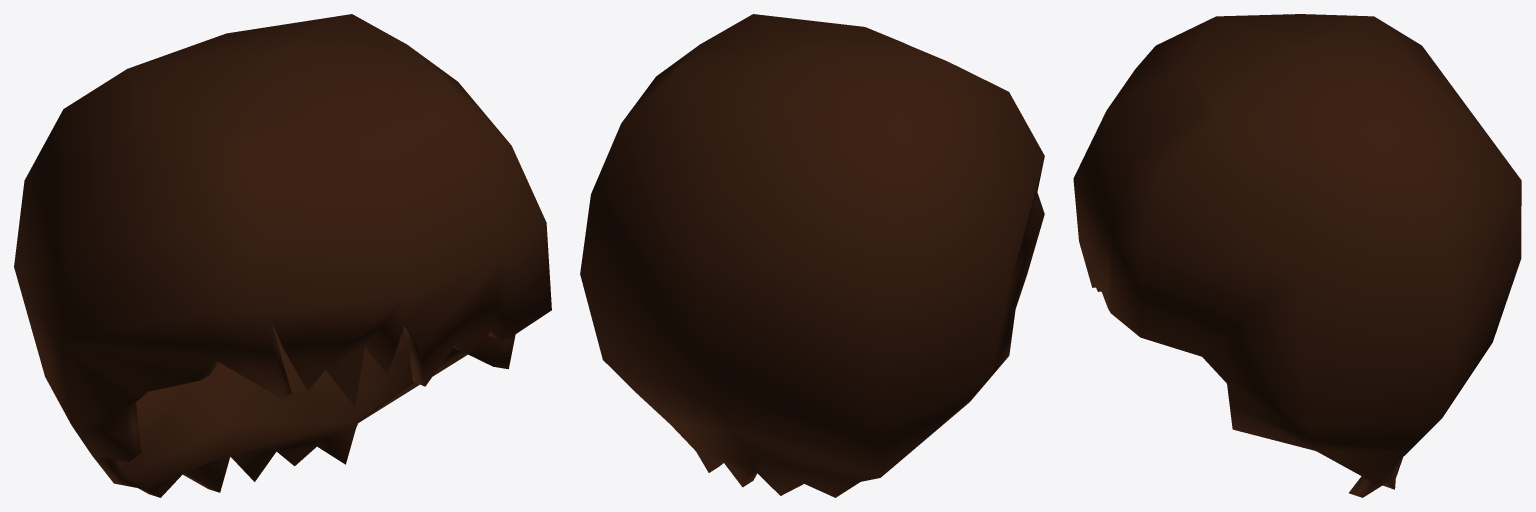
The model's file is hair2.gltf.
3 views of the same model, side by side, from view 1: azimuth 30°, elevation 25°; view 2: azimuth 150°, elevation 25°; view 3: azimuth 270°, elevation 25° (orthographic). The views are drawn at different scales.
Visible parts, largest first — view 1: hair2; view 2: hair2; view 3: hair2.
Boxes of the visible parts, x1=… form: hair2: x1=14, y1=14, x2=551, y2=497; hair2: x1=580, y1=14, x2=1044, y2=497; hair2: x1=1073, y1=14, x2=1521, y2=497.
Bounding box in the file's own units: 1.2 × 1.22 × 1.18.
